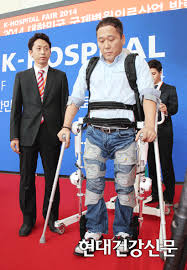crutches: (39, 16, 168, 256)
